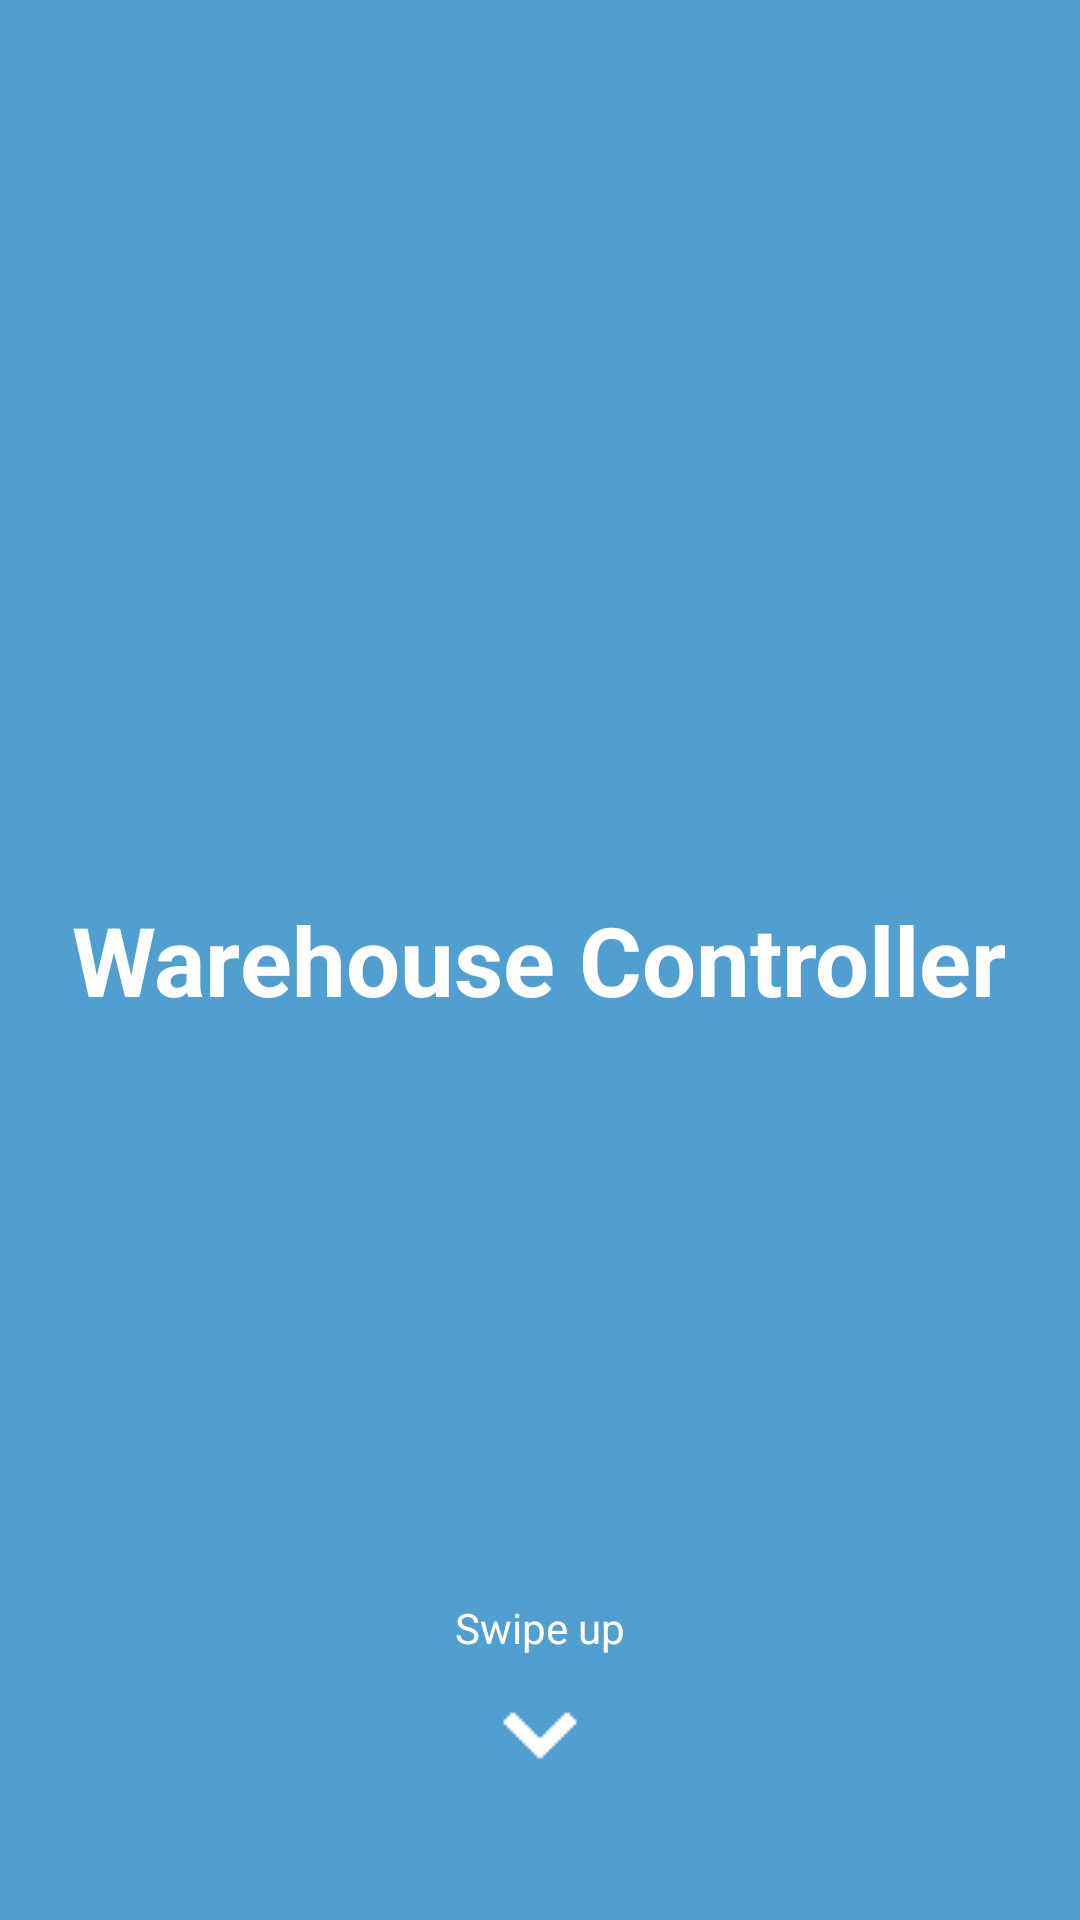

Icon click points for this 1080 × 1920 phone screenshot, format [x,y]:
White Arrow: [540,1735]
